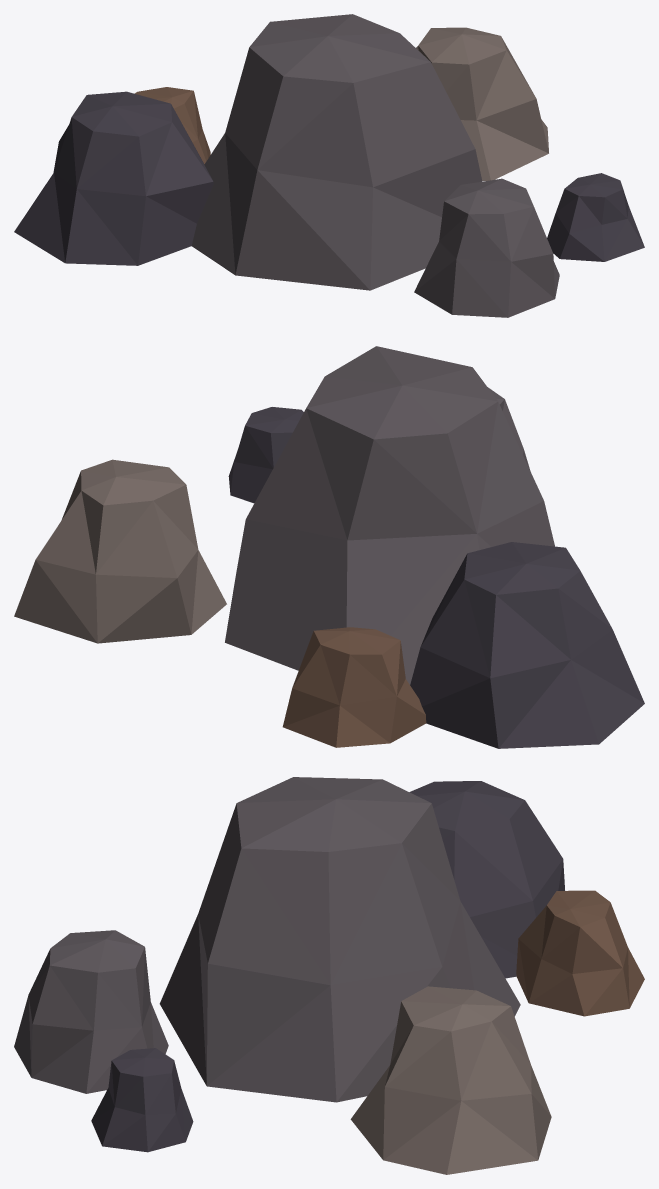
Rendered from rubble_c.fbx.
3 renders of one model, top to bottom at view 1: azimuth 30°, elevation 25°; view 2: azimuth 150°, elevation 25°; view 3: azimuth 270°, elevation 25°, orthographic. The views are drawn at different scales.
Parts seen in each view (by area): view 1: rubble_c; view 2: rubble_c; view 3: rubble_c.
Boxes of the visible parts, x1=… form: rubble_c: x1=14, y1=14, x2=644, y2=317; rubble_c: x1=14, y1=346, x2=644, y2=748; rubble_c: x1=14, y1=777, x2=644, y2=1174.
Size of the model in its own units: 2.84 by 1.02 by 2.62.
